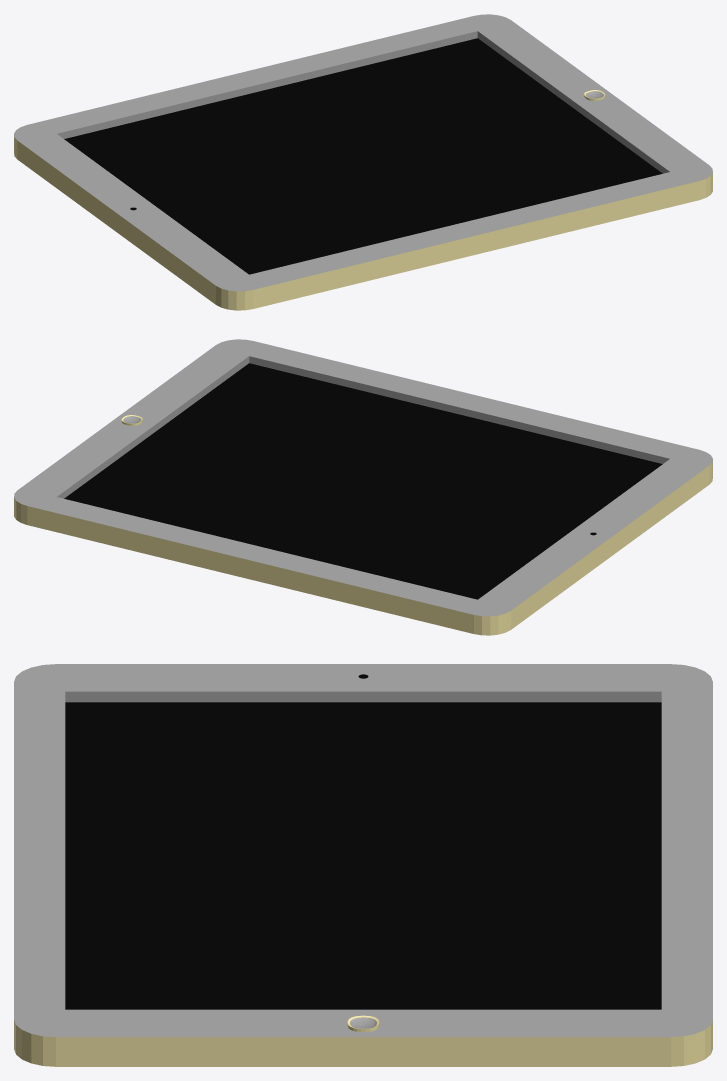
Rendered from Tablet.fbx.
3 renders of one model, top to bottom at view 1: azimuth 30°, elevation 25°; view 2: azimuth 150°, elevation 25°; view 3: azimuth 270°, elevation 25°, orthographic. The views are drawn at different scales.
Visible parts, largest first — view 1: Tablet; view 2: Tablet; view 3: Tablet.
Part boxes in pixels (x1,y1,x2,y2): Tablet: [14, 14, 712, 310]; Tablet: [14, 339, 712, 635]; Tablet: [14, 664, 712, 1066].
Bounding box in the file's own units: 24 × 1.51 × 19.
